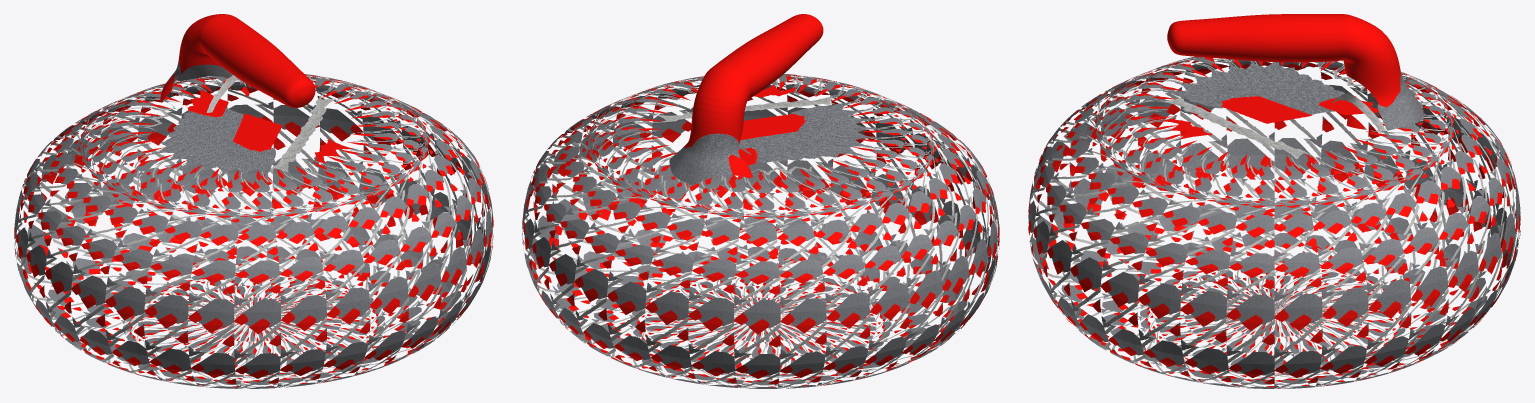
File: culringrock.obj
3 views of the same model, side by side, from view 1: azimuth 30°, elevation 25°; view 2: azimuth 150°, elevation 25°; view 3: azimuth 270°, elevation 25° (orthographic). The views are drawn at different scales.
Parts seen in each view (by area): view 1: Cylinder; view 2: Cylinder; view 3: Cylinder.
Boxes of the visible parts, bbox=[...] form: Cylinder: bbox=[14, 14, 493, 388]; Cylinder: bbox=[522, 14, 999, 388]; Cylinder: bbox=[1028, 14, 1520, 388].
Bounding box in the file's own units: 1.98 × 1.28 × 1.9.
